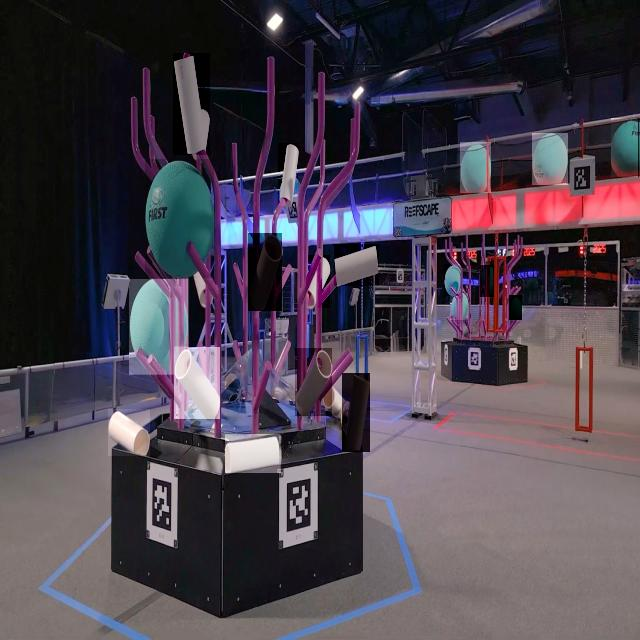Algae: (145, 159, 214, 278), (129, 280, 188, 376), (532, 133, 568, 185), (612, 118, 640, 177), (460, 142, 491, 193), (444, 264, 461, 296), (451, 294, 468, 322), (480, 265, 494, 297), (509, 295, 522, 320)
Coral: (173, 53, 210, 155), (174, 347, 220, 419), (248, 233, 282, 311), (295, 348, 332, 416), (342, 373, 370, 452), (226, 434, 282, 473), (108, 409, 150, 456), (334, 244, 379, 286), (306, 255, 330, 308), (278, 143, 298, 206)
